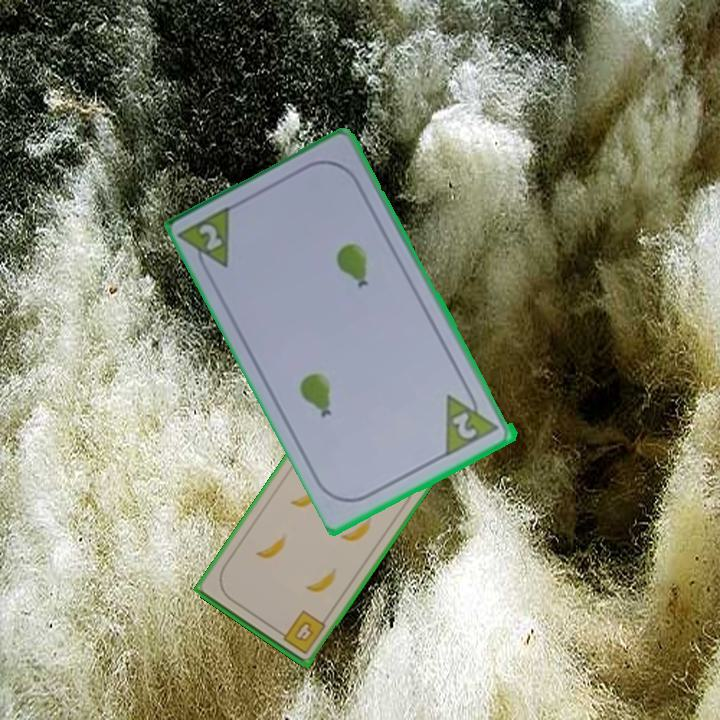2p: (441, 382, 503, 459), (196, 220, 226, 254)
4b: (274, 607, 328, 657)
